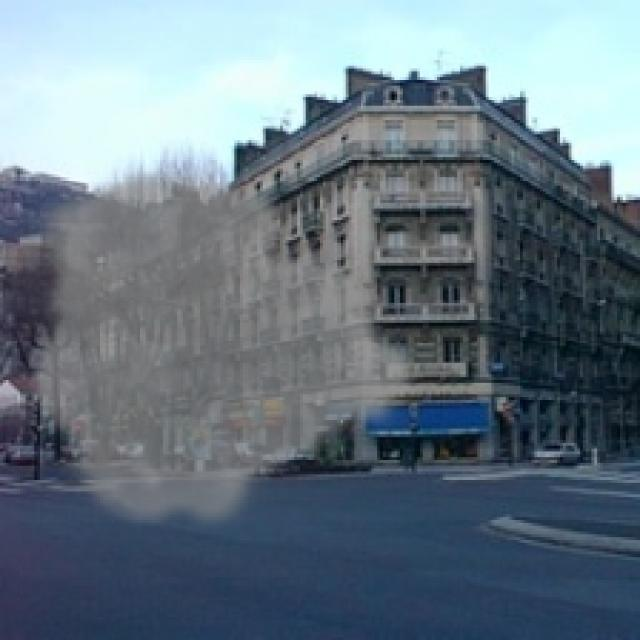Smoke: (26, 165, 426, 538)
